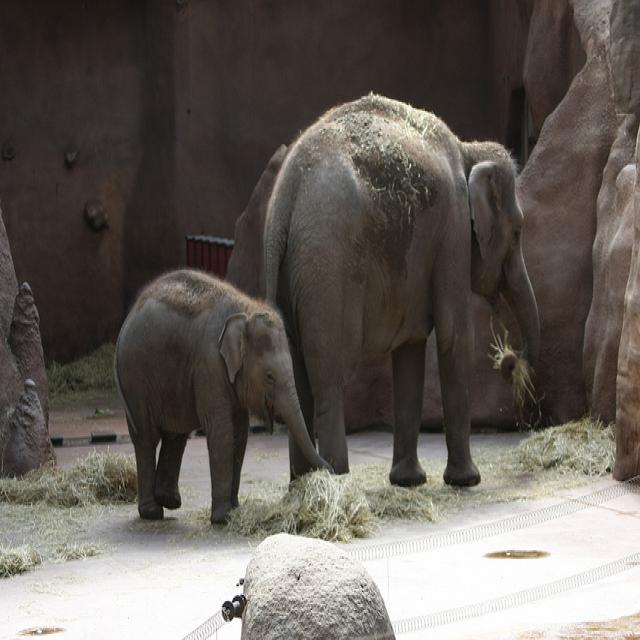Elephant: (262, 90, 541, 487), (112, 266, 335, 524)
